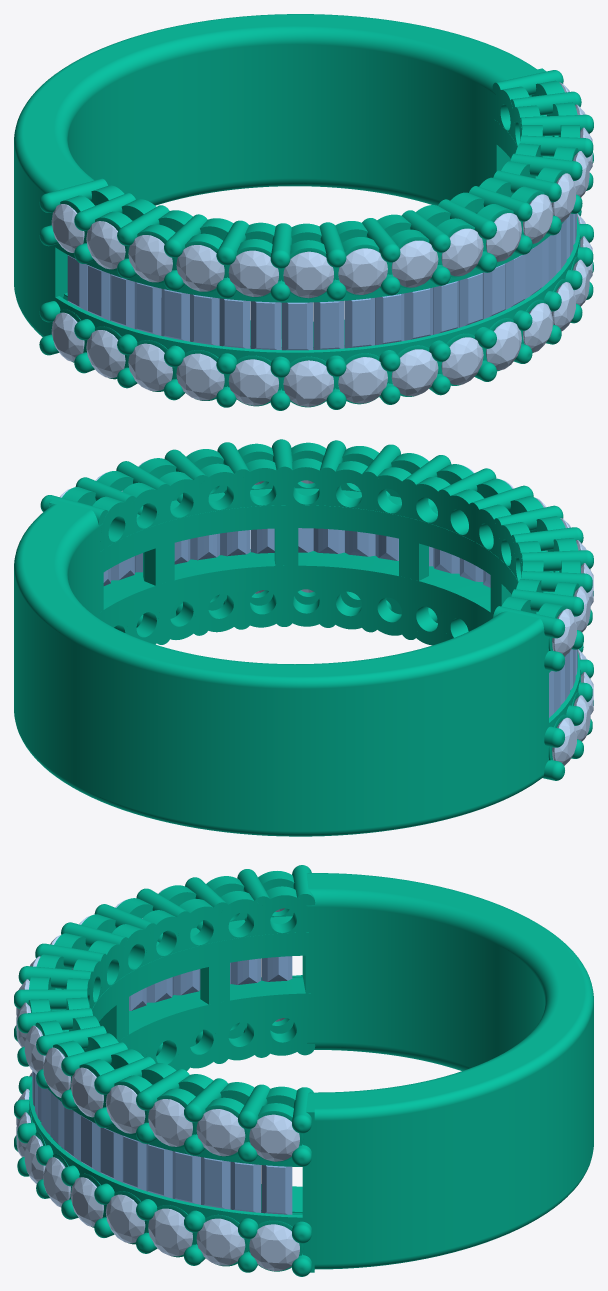
The picture shows the model from 3 angles, top to bottom: view 1: azimuth 30°, elevation 25°; view 2: azimuth 150°, elevation 25°; view 3: azimuth 270°, elevation 25°; orthographic projection.
Parts seen in each view (by area): view 1: size - T 6247 C(base).3dm, Diamond_Round (×24), Diamond_Baguette Straight (×19), Bezel (×6); view 2: size - T 6247 C(base).3dm, Bezel (×27), Diamond_Baguette Straight (×7), Diamond_Round (×2); view 3: size - T 6247 C(base).3dm, Diamond_Round (×14), Bezel (×15), Diamond_Baguette Straight (×13).
Part boxes in pixels (left/top/right/bottom): size - T 6247 C(base).3dm: left=14, top=14, right=593, bottom=410; Diamond_Round (×24): left=51, top=173, right=575, bottom=406; Diamond_Baguette Straight (×19): left=67, top=234, right=556, bottom=350; Bezel (×6): left=176, top=86, right=540, bottom=298; size - T 6247 C(base).3dm: left=14, top=439, right=593, bottom=836; Bezel (×27): left=92, top=442, right=541, bottom=645; Diamond_Baguette Straight (×7): left=190, top=528, right=459, bottom=573; Diamond_Round (×2): left=552, top=608, right=576, bottom=765; size - T 6247 C(base).3dm: left=14, top=865, right=593, bottom=1276; Diamond_Round (×14): left=24, top=1025, right=299, bottom=1271; Bezel (×15): left=73, top=871, right=311, bottom=1161; Diamond_Baguette Straight (×13): left=51, top=956, right=292, bottom=1214.
Bounding box in the file's own units: 2.82 × 0.8317 × 2.71.
